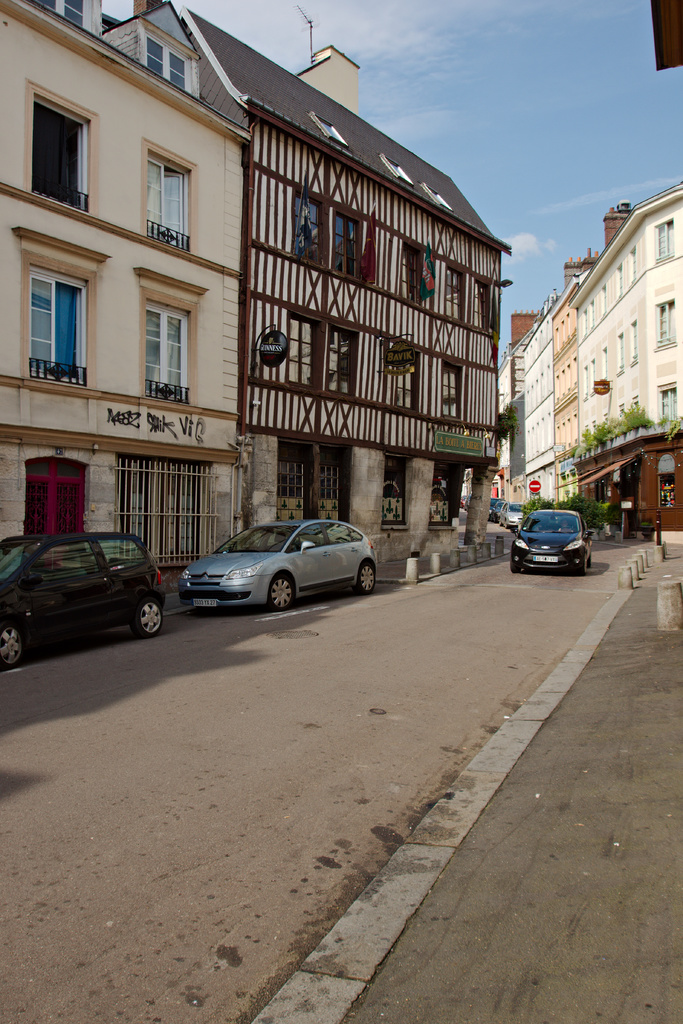Car: (0, 520, 158, 676), (169, 512, 385, 615), (501, 499, 590, 580)
